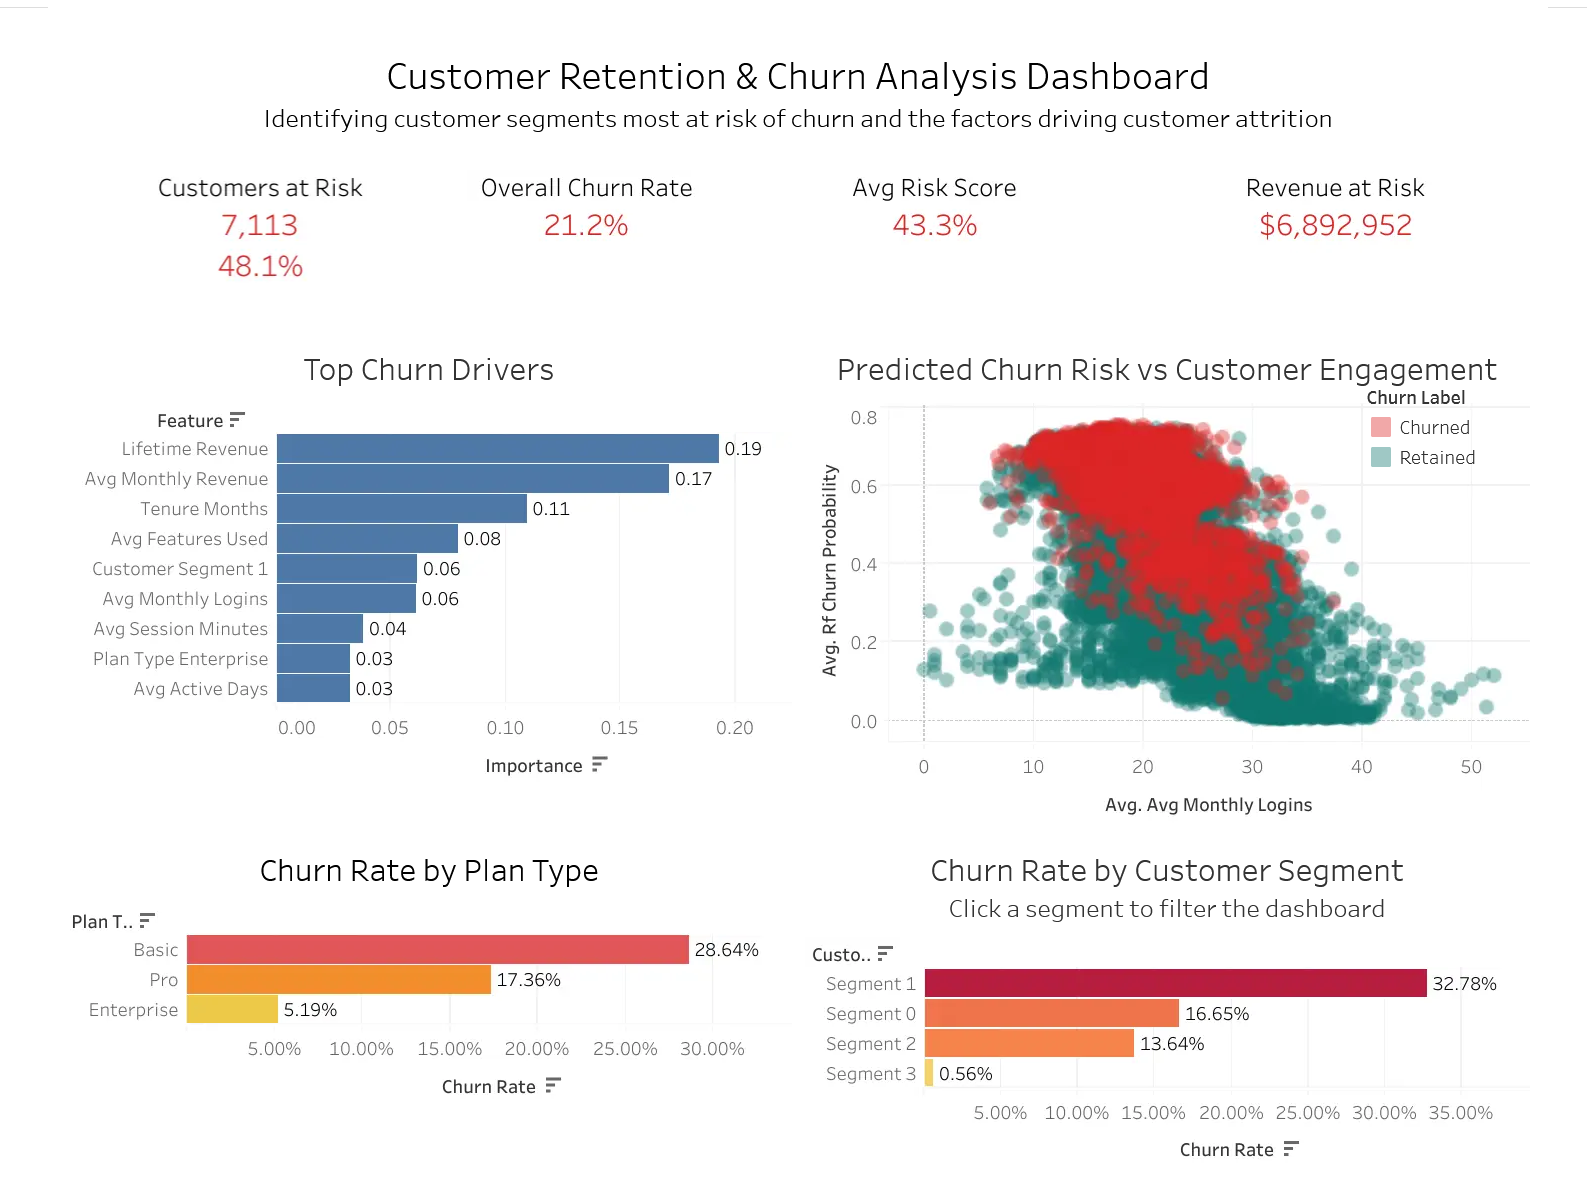

What the dashboard file says about the page in this screenshot:
{"tool":"tableau","page":{"name":"Customer Retention & Churn Risk Dashboard","canvas":[1000,800],"ordinal":0},"visuals":[{"type":"text","box":[8,8,984,96]},{"type":"worksheet","title":"Customers at Risk","mark":"Automatic","box":[8,104,267,112]},{"type":"worksheet","title":"Overall Churn Rate","mark":"Automatic","box":[275,104,183,112]},{"type":"worksheet","title":"Avg Risk Score","mark":"Automatic","box":[458,104,267,112]},{"type":"worksheet","title":"Revenue at Risk","mark":"Automatic","box":[725,104,267,112]},{"type":"worksheet","title":"Top Churn Drivers","mark":"Automatic","rows":["feature"],"cols":["importance"],"box":[8,216,492,334]},{"type":"worksheet","title":"Predicted Churn Risk vs Customer Engagement","mark":"Circle","rows":["rf_churn_probability"],"cols":["avg_monthly_logins"],"box":[500,216,492,334]},{"type":"worksheet","title":"Churn Rate by Plan Type","mark":"Automatic","rows":["plan_type"],"cols":["Calculation_0014377896050721"],"box":[8,550,492,242]},{"type":"worksheet","title":"Churn Rate by Customer Segment","mark":"Bar","rows":["customer_segment"],"cols":["Calculation_0014377896050721"],"box":[500,550,492,242]}]}

Visuals, with their boxes on the page's 1000x800 design canvas (x1, y1, x2, y2). These are canvas units, not pixel positions in the 1587x1201 screenshot, which may show the page scaled, cropped or inside an application window:
text: 8 8 992 104
"Customers at Risk" worksheet: 8 104 275 216
"Overall Churn Rate" worksheet: 275 104 458 216
"Avg Risk Score" worksheet: 458 104 725 216
"Revenue at Risk" worksheet: 725 104 992 216
"Top Churn Drivers" worksheet: 8 216 500 550
"Predicted Churn Risk vs Customer Engagement" worksheet (Circle marks): 500 216 992 550
"Churn Rate by Plan Type" worksheet: 8 550 500 792
"Churn Rate by Customer Segment" worksheet (Bar marks): 500 550 992 792
